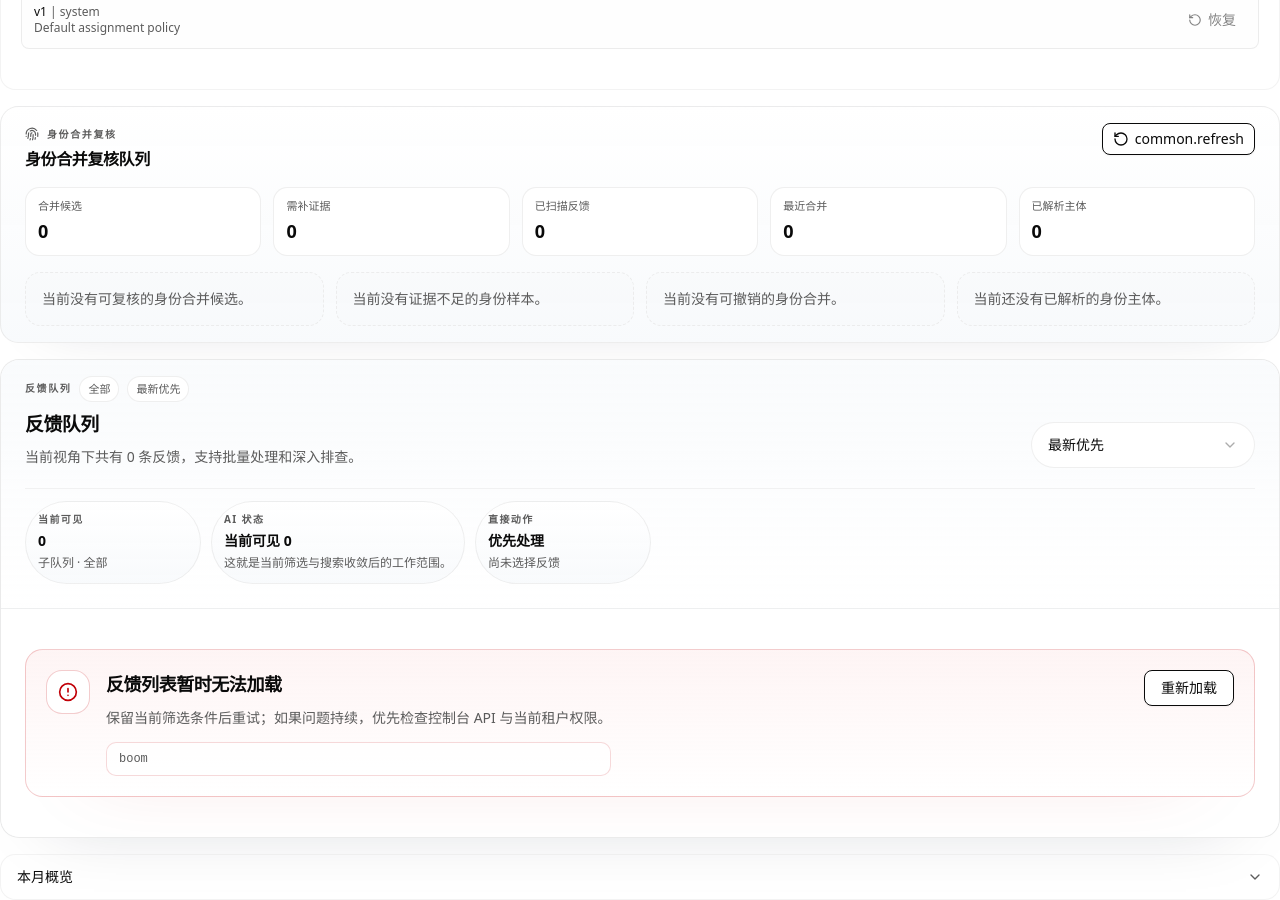
Test: _authed.feedback route — user flow smoke › 500 from /feedback renders a retryable error state instead of an empty list
(page scrolled)
Expected: the heading "反馈列表暂时无法加载" is shown, [106,672,282,696]
Click the button "重新加载": [1189, 688] box [1144,670,1234,706]
(page scrolled)
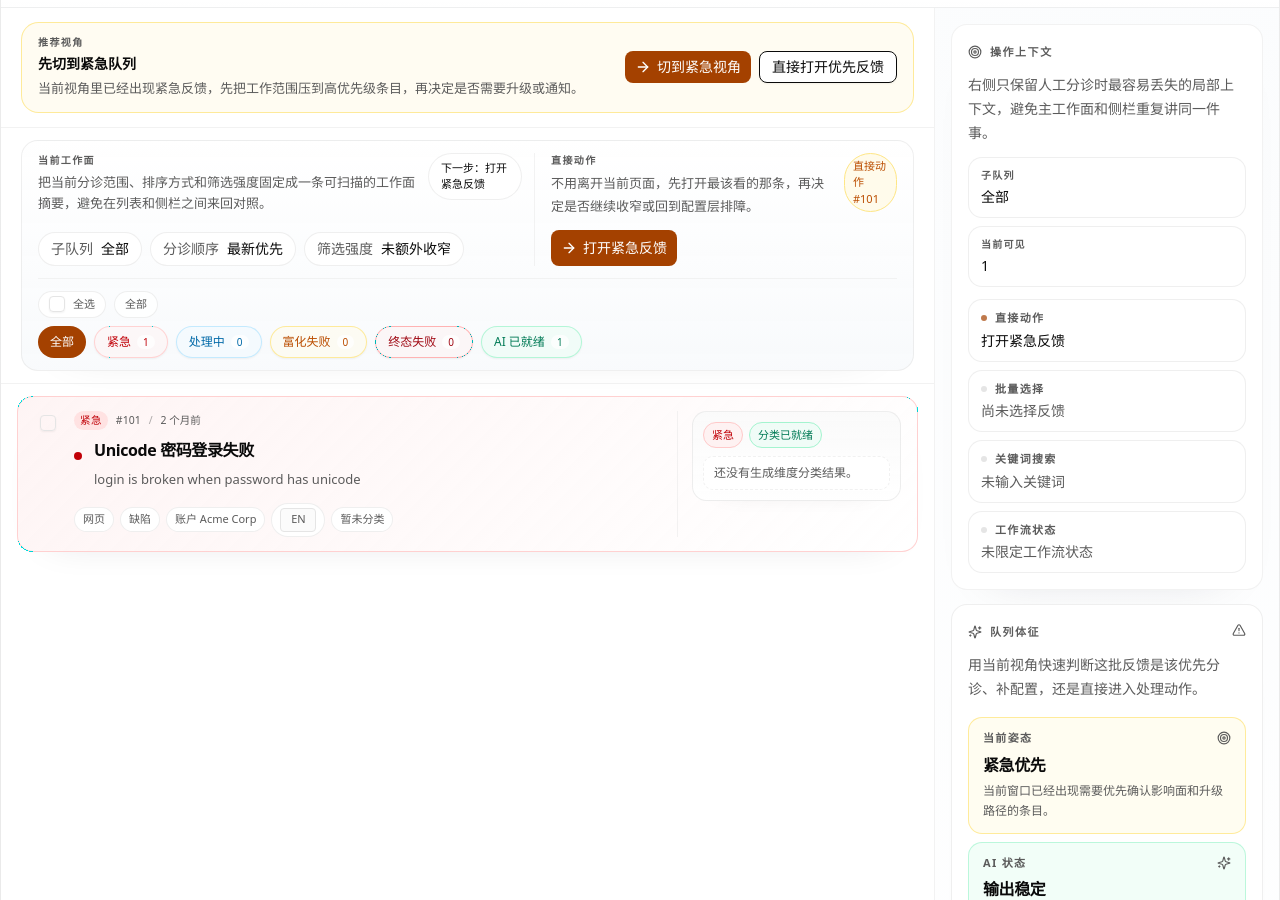
Expected: the text "Unicode 密码登录失败" is shown, [94,439,254,461]
